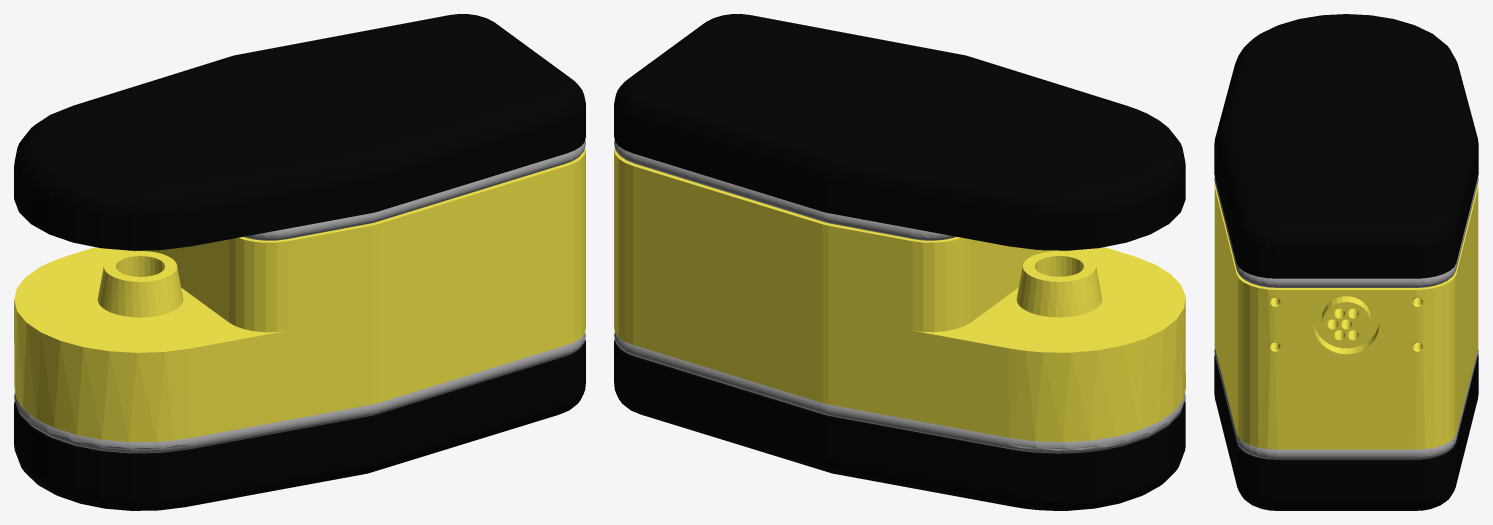
Rendered from amphibot_module.dae.
3 views of the same model, side by side, from view 1: azimuth 30°, elevation 25°; view 2: azimuth 150°, elevation 25°; view 3: azimuth 270°, elevation 25° (orthographic). The views are drawn at different scales.
Parts seen in each view (by area): view 1: amphibot_module; view 2: amphibot_module; view 3: amphibot_module.
Part boxes in pixels (<box>): amphibot_module: <box>14,14,585,510</box>; amphibot_module: <box>614,14,1185,510</box>; amphibot_module: <box>1214,14,1478,510</box>.
Size of the model in its own units: 0.0955 by 0.048 by 0.058.
